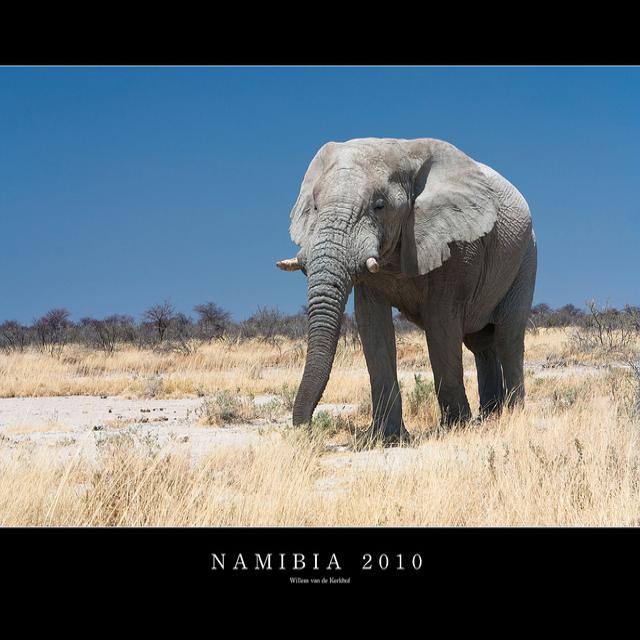Elephant: (275, 136, 537, 447)
